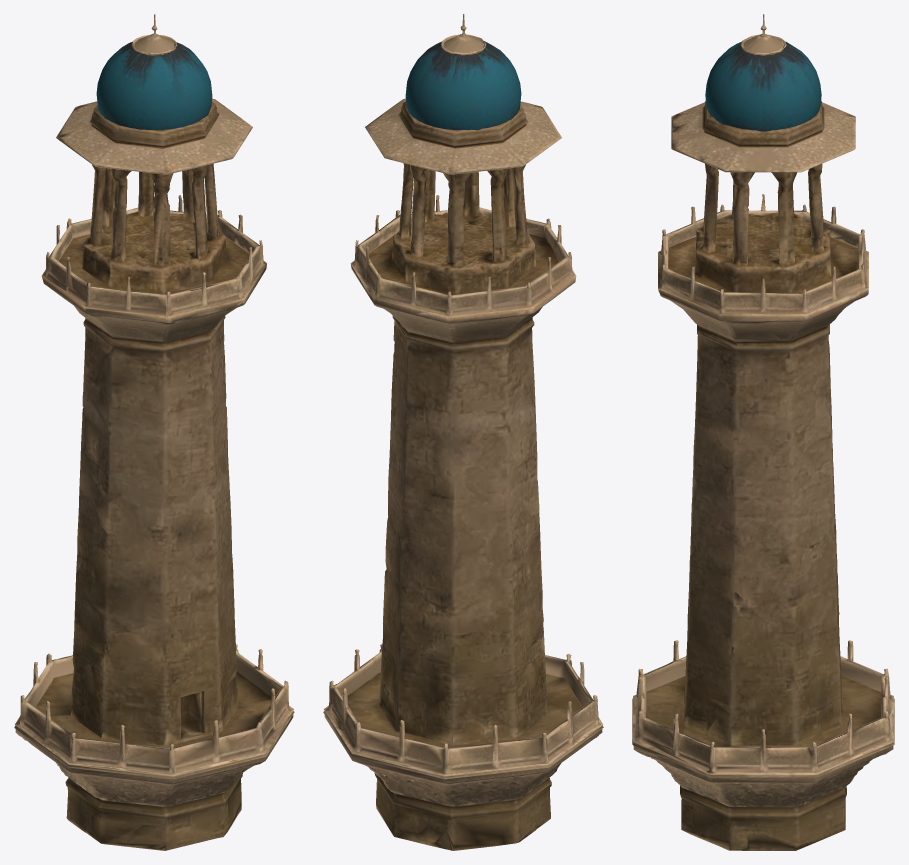
Rendered from fortress-tower.glb.
The picture shows the model from 3 angles, left to right: view 1: azimuth 30°, elevation 25°; view 2: azimuth 150°, elevation 25°; view 3: azimuth 270°, elevation 25°; orthographic projection.
Visible parts, largest first — view 1: DesertTemple_Tower_Medium_01.001_Tower_Medium_01_0; view 2: DesertTemple_Tower_Medium_01.001_Tower_Medium_01_0; view 3: DesertTemple_Tower_Medium_01.001_Tower_Medium_01_0.
Boxes of the visible parts, <box> form: DesertTemple_Tower_Medium_01.001_Tower_Medium_01_0: <box>14,14,294,850</box>; DesertTemple_Tower_Medium_01.001_Tower_Medium_01_0: <box>323,14,603,850</box>; DesertTemple_Tower_Medium_01.001_Tower_Medium_01_0: <box>632,14,894,850</box>.
Size of the model in its own units: 6.44 by 21.71 by 6.44.
1 material, 1 textured.
